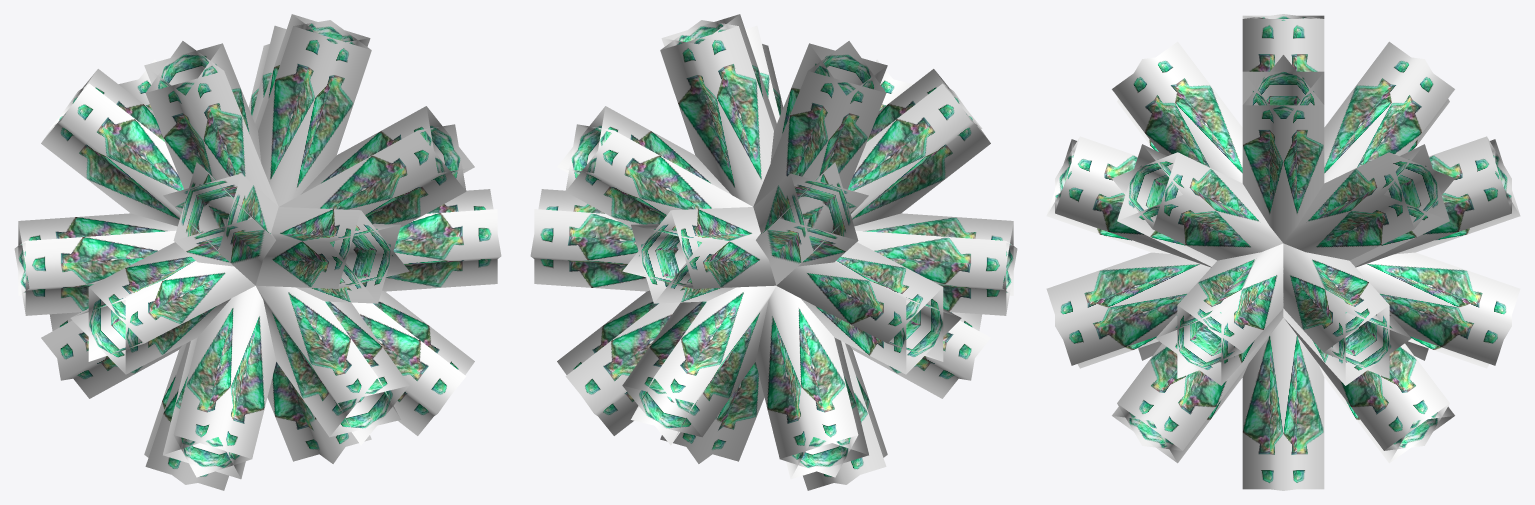
The model's file is StarGreatDodecahemicosacron4.gltf.
3 views of the same model, side by side, from view 1: azimuth 30°, elevation 25°; view 2: azimuth 150°, elevation 25°; view 3: azimuth 270°, elevation 25° (orthographic).
Parts seen in each view (by area): view 1: StarGreatDodecahemicosacron; view 2: StarGreatDodecahemicosacron; view 3: StarGreatDodecahemicosacron.
Boxes of the visible parts, x1,y1,x2,y2 form: StarGreatDodecahemicosacron: (14, 14, 501, 490); StarGreatDodecahemicosacron: (530, 14, 1017, 490); StarGreatDodecahemicosacron: (1046, 14, 1520, 490).
Size of the model in its own units: 10.06 by 10.06 by 10.06.
Materials: 1 (1 with a texture image).
